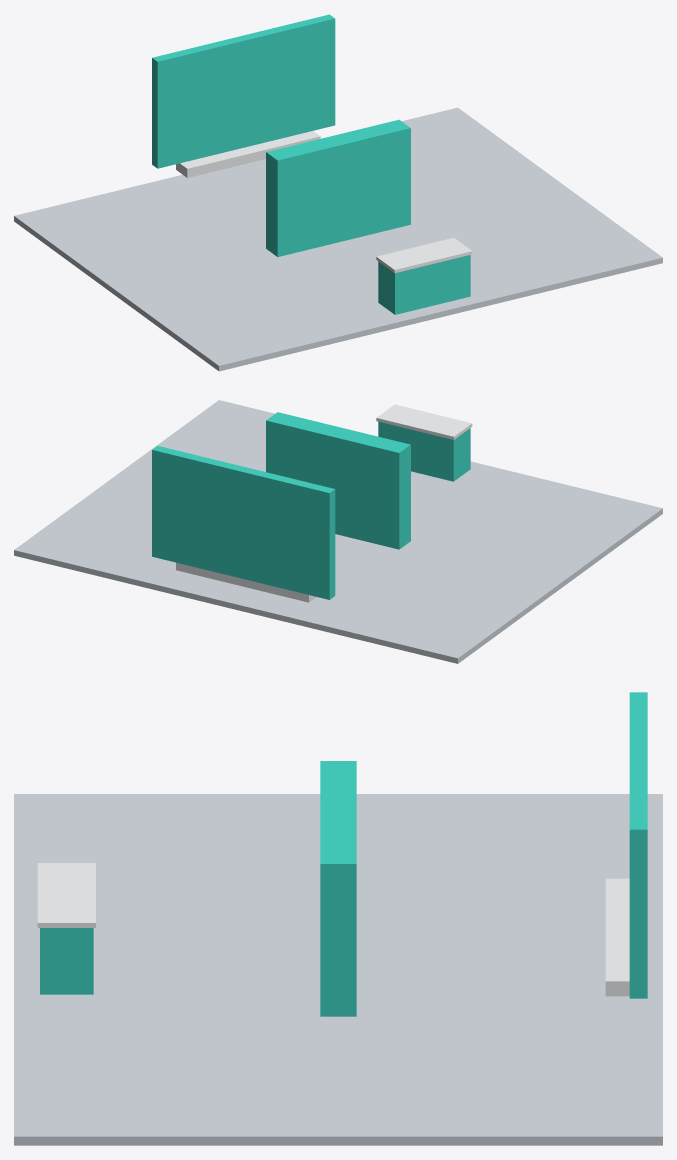
3 renders of one model, top to bottom at view 1: azimuth 30°, elevation 25°; view 2: azimuth 150°, elevation 25°; view 3: azimuth 270°, elevation 25°, orthographic. The views are drawn at different scales.
Parts seen in each view (by area): view 1: Exhibition Booth Concept; view 2: Exhibition Booth Concept; view 3: Exhibition Booth Concept.
Part boxes in pixels (x1=…): Exhibition Booth Concept: x1=14, y1=14, x2=662, y2=371; Exhibition Booth Concept: x1=14, y1=400, x2=662, y2=663; Exhibition Booth Concept: x1=14, y1=692, x2=662, y2=1145.
Size of the model in its own units: 10 by 2.9 by 8.
